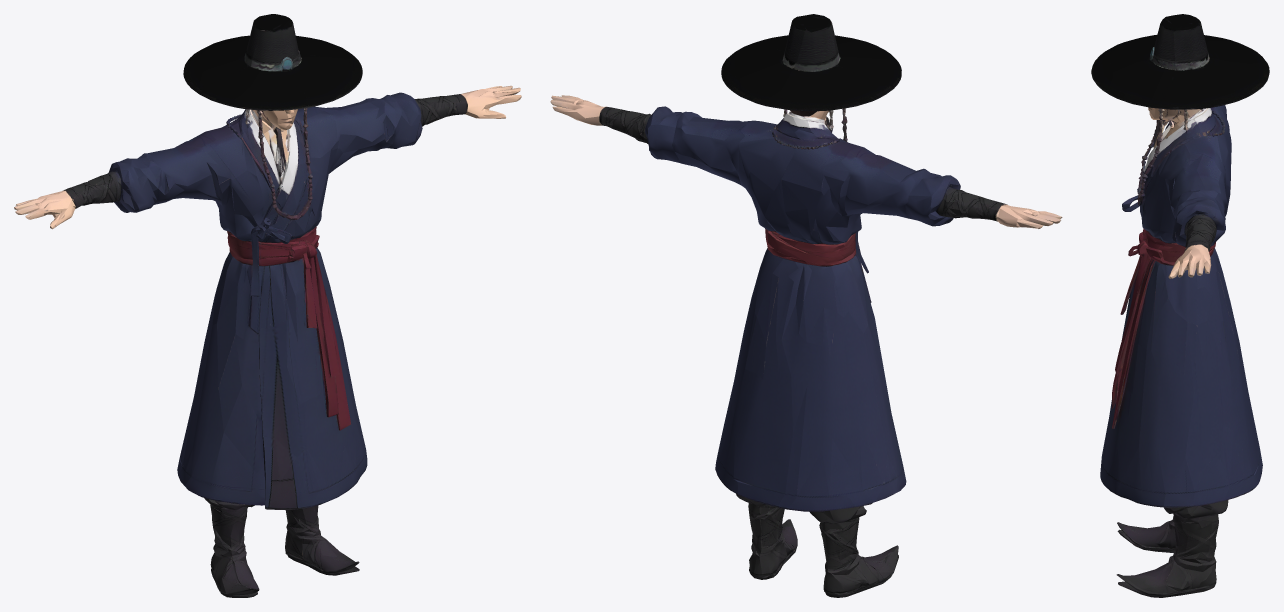
The model's file is doho_gt1_textured.glb.
The picture shows the model from 3 angles, left to right: view 1: azimuth 30°, elevation 25°; view 2: azimuth 150°, elevation 25°; view 3: azimuth 270°, elevation 25°; orthographic projection.
Size of the model in its own units: 1.82 by 1.9 by 0.5606.
Materials: 1 (1 with a texture image).
